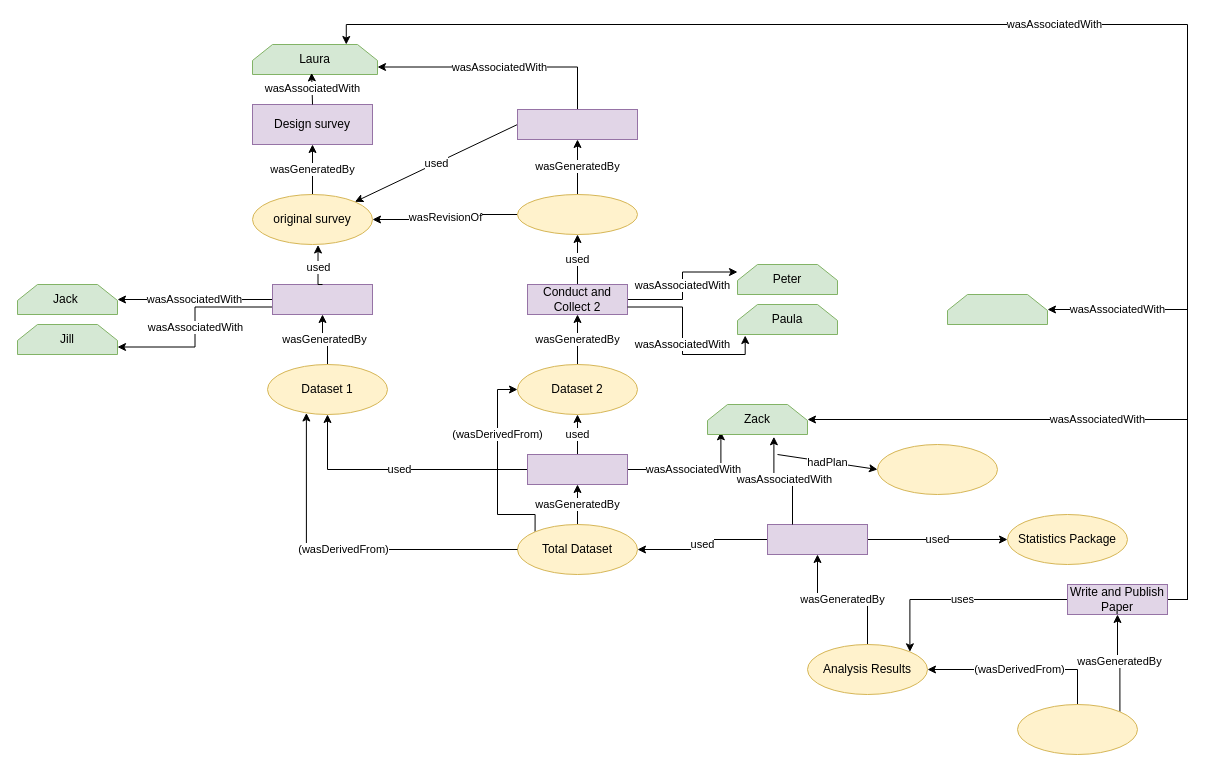
Image size: 1213x772. Some labels were removed from this diagram. Here are the shapes that lost their labels. From the top down, the centre of each, then its label:
At [577,124]: "Revision".
At [577,214]: "updated survey".
At [322,299]: "Conduct and Collect 1".
At [997,309]: "co-authors".
At [577,469]: "Compillation".
At [937,469]: "Analysis Methodology".
At [817,539]: "Data Analysis".
At [1077,729]: "Paper".
